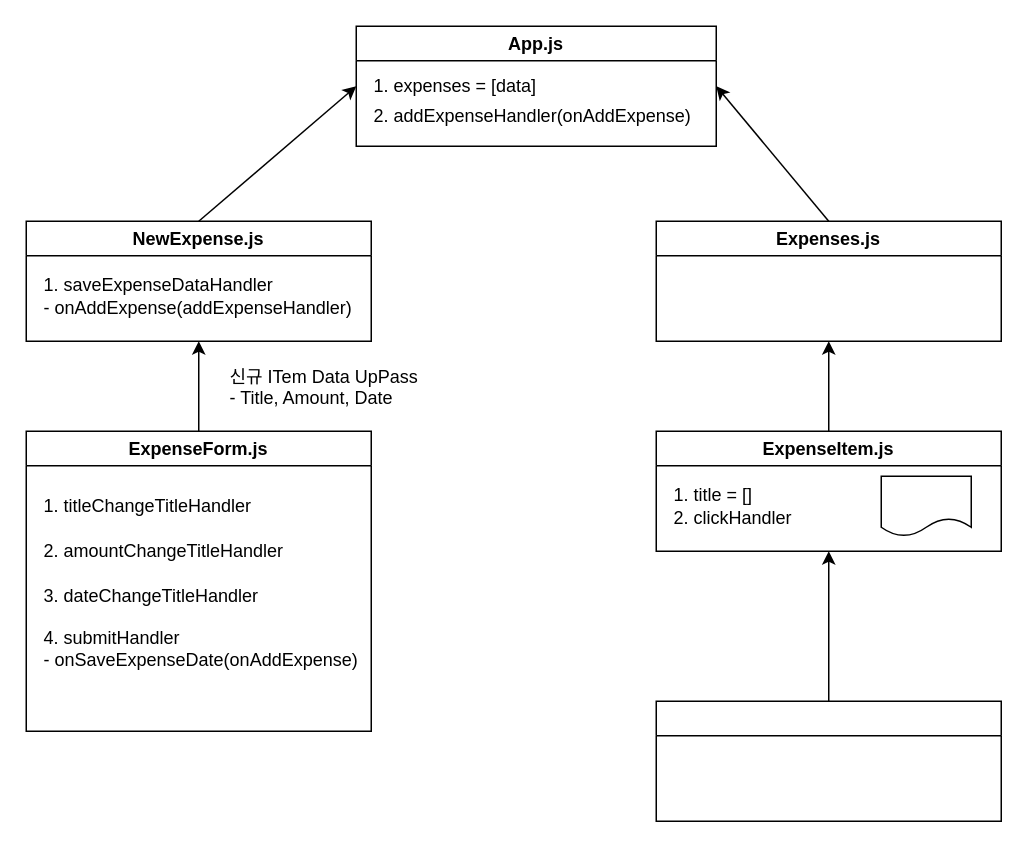
The diagram is 1028 pixels wide and 848 high, and some of its shapes have lost their labels. Each missing label, with the centre of its shape:
"Card" goes at pixel 925 505.
"ExpenseDate.js" goes at pixel 828 760.
